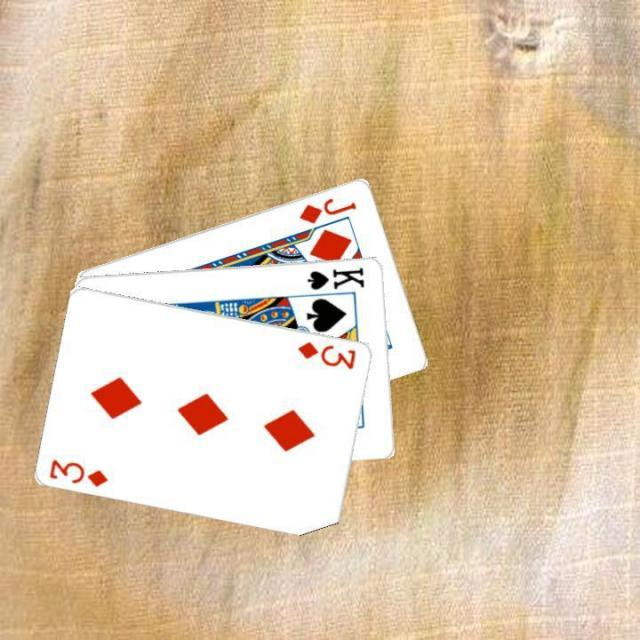3D: (294, 337, 359, 371), (46, 455, 110, 488)
JD: (295, 193, 358, 226)
KS: (303, 262, 367, 290)
